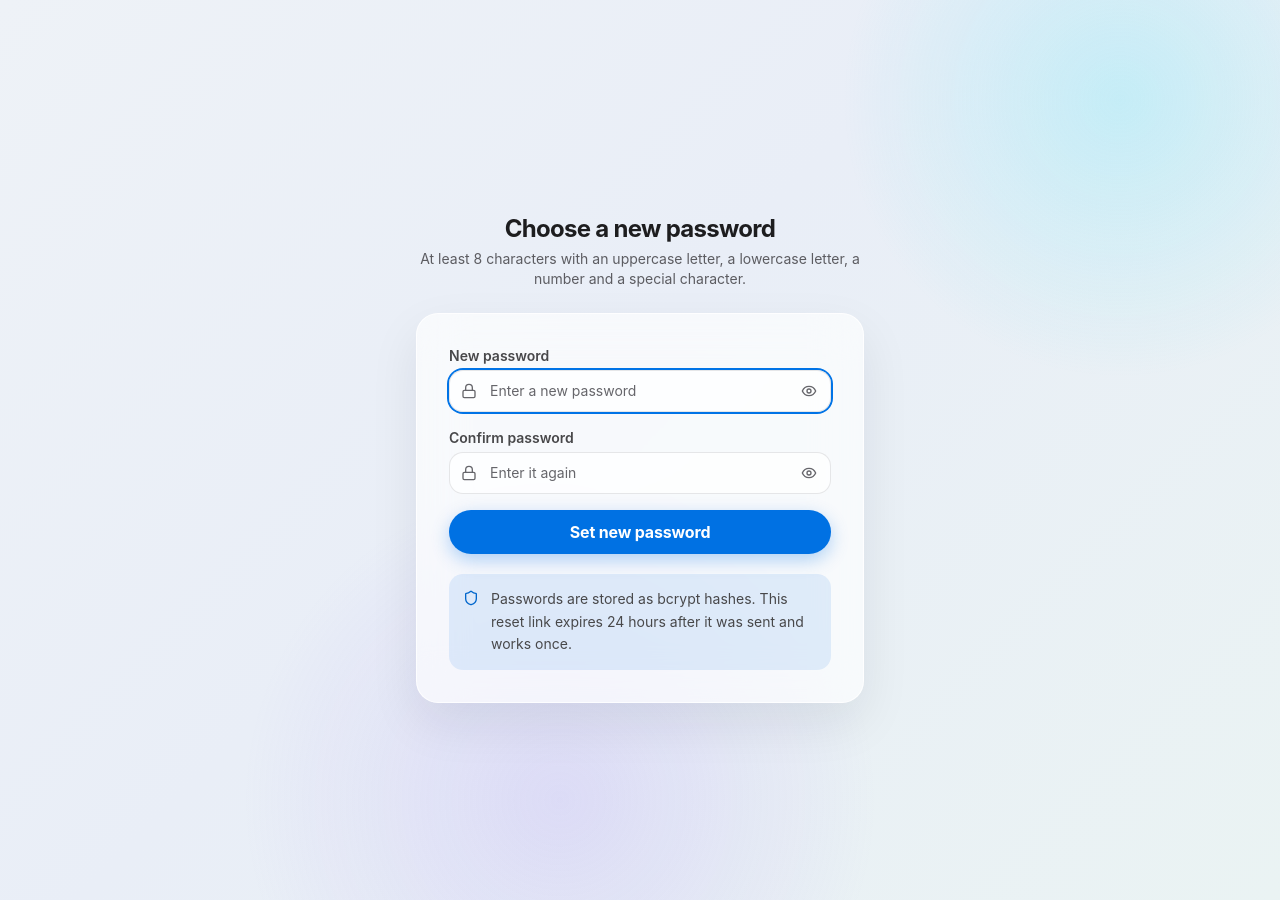
Test: reset password page readability › renders no text below 14px when the link no longer works
The width and height of the screenshot is (1280, 900).
Type "Aa1!aaaa" into the password field labelled "New password" at (640, 391), box [449, 370, 831, 412]
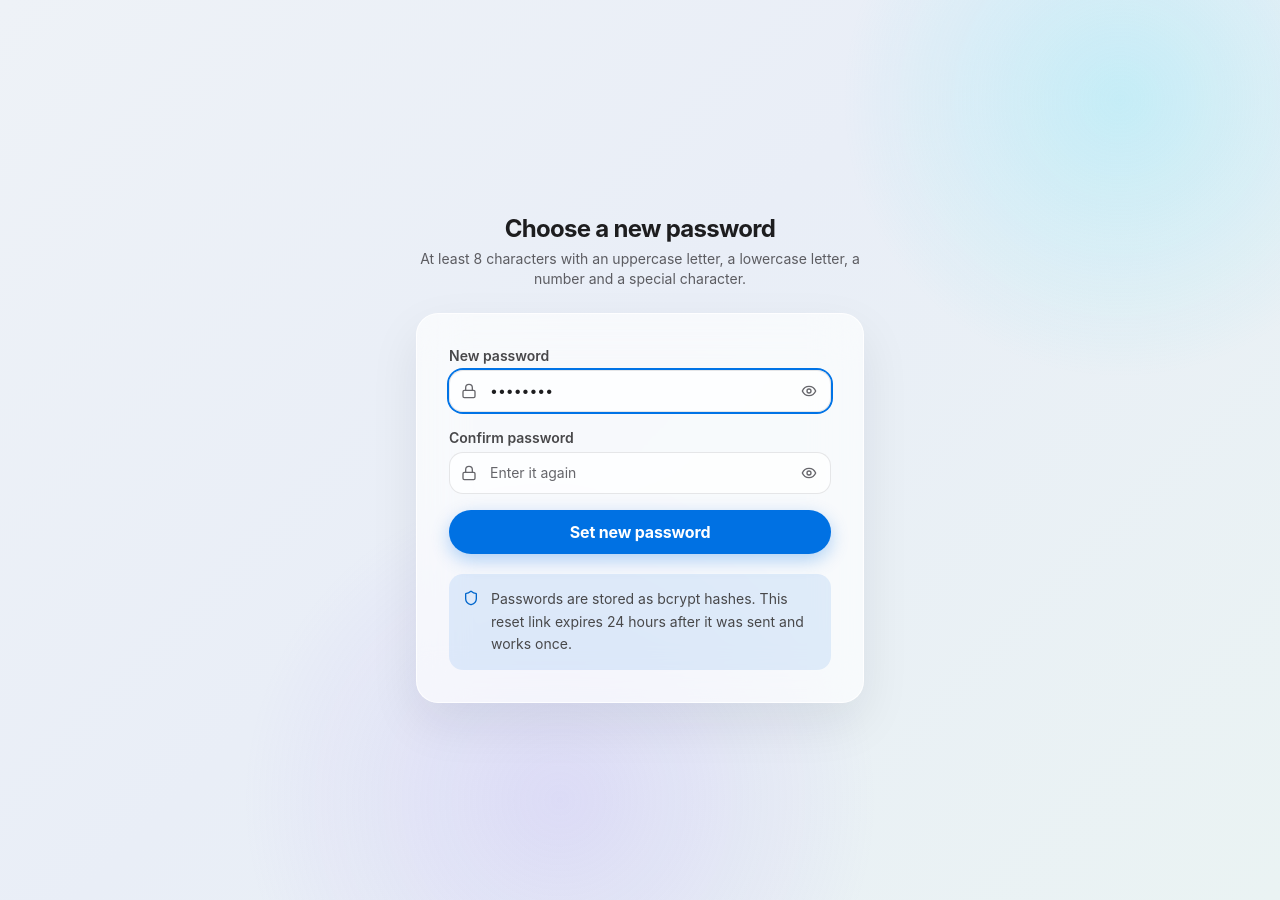
Type "Aa1!aaaa" into the password field labelled "Confirm password" at (640, 473), box [449, 452, 831, 494]
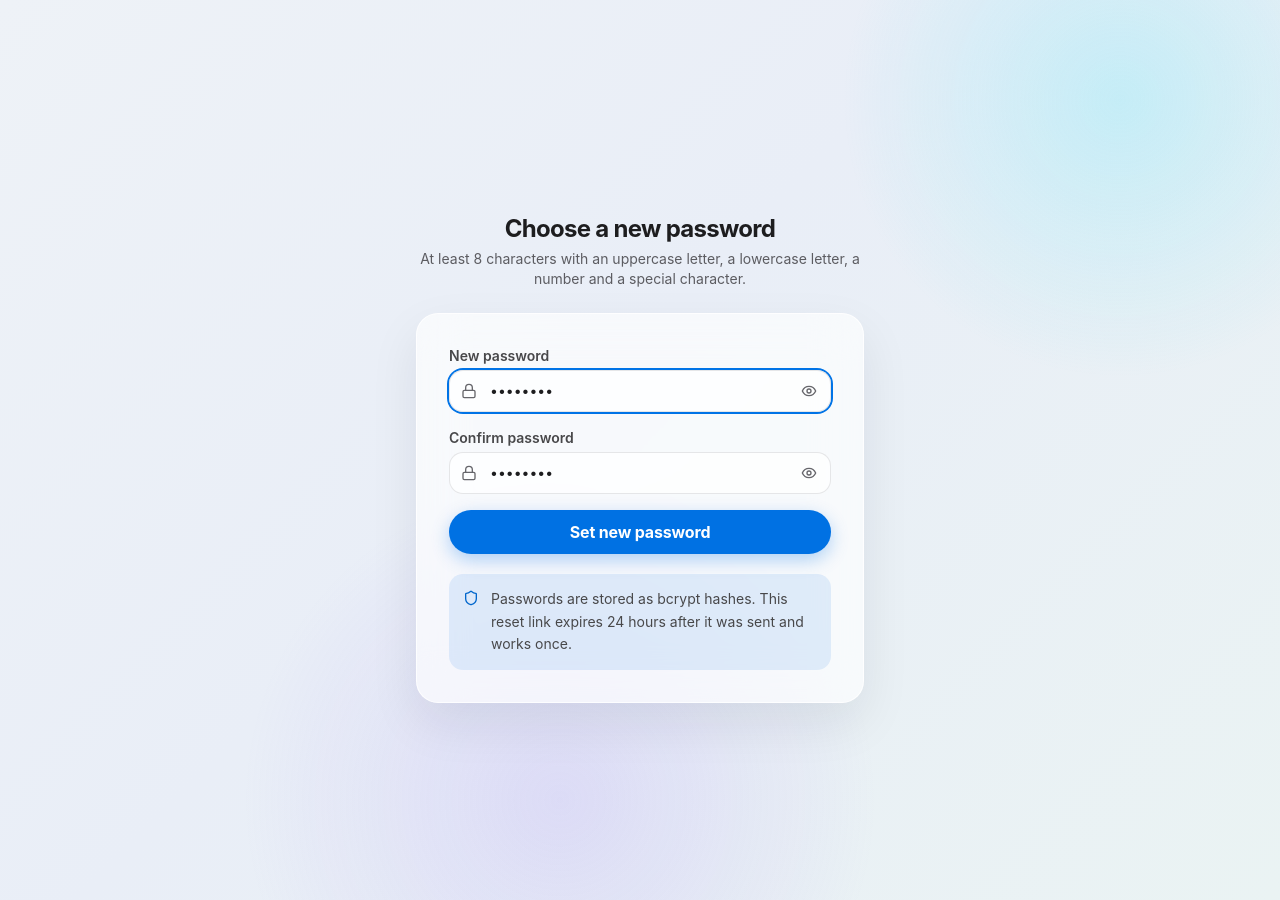
Click the button "Set new password" at (640, 532), box [449, 510, 831, 554]
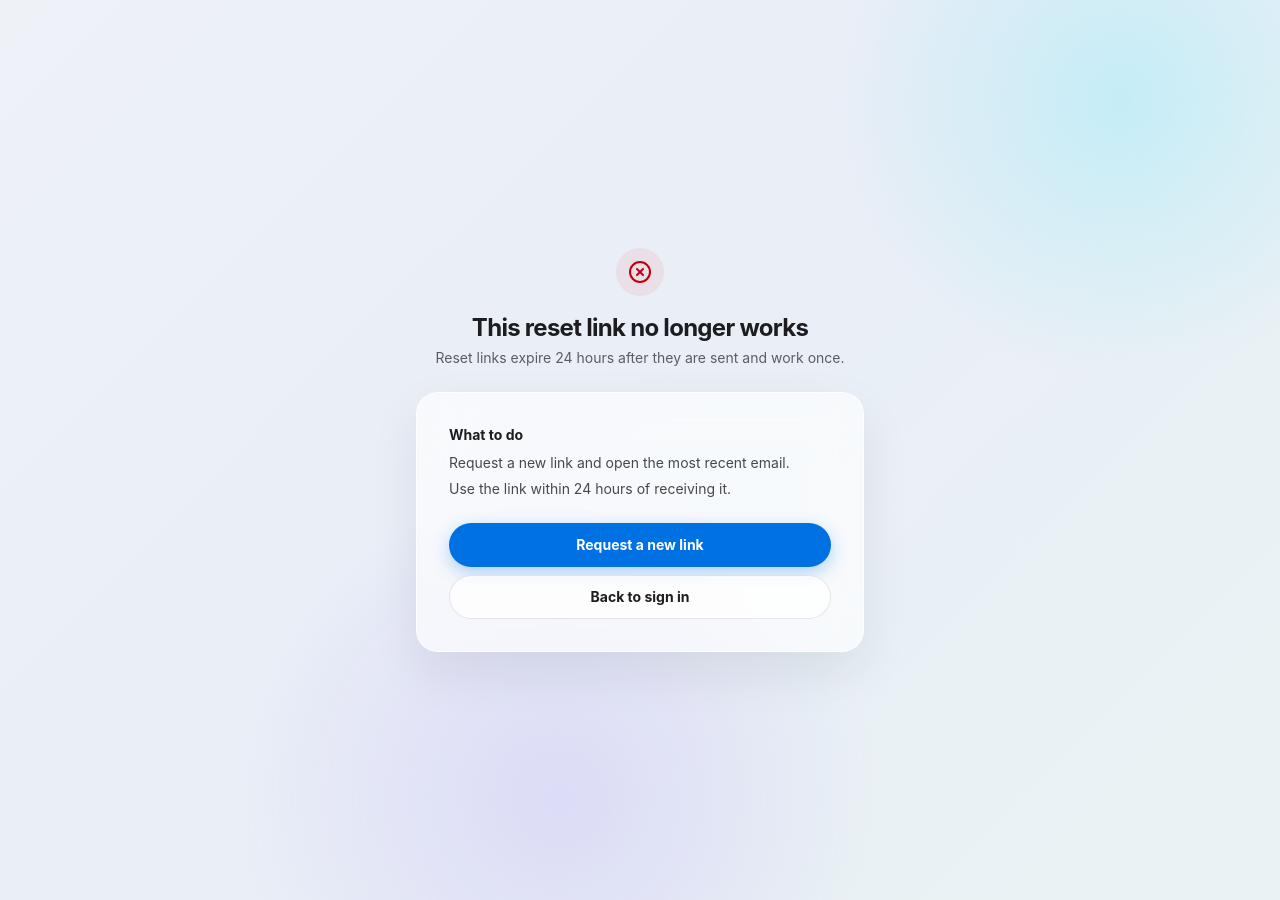
Now the heading "This reset link no longer works" is shown, box [472, 312, 808, 344]
Now the list item "Use the link within 24 hours of receiving it." is shown, box [449, 480, 731, 497]
